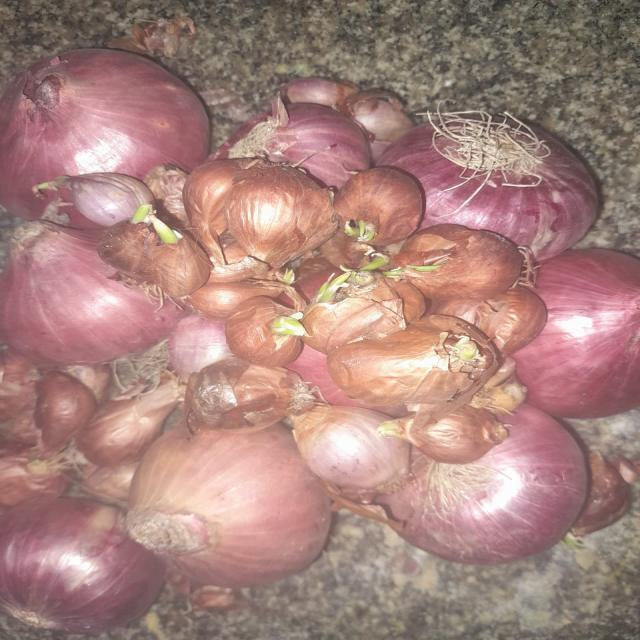sprouting: (316, 277, 383, 306), (133, 202, 174, 244), (279, 305, 310, 342)
